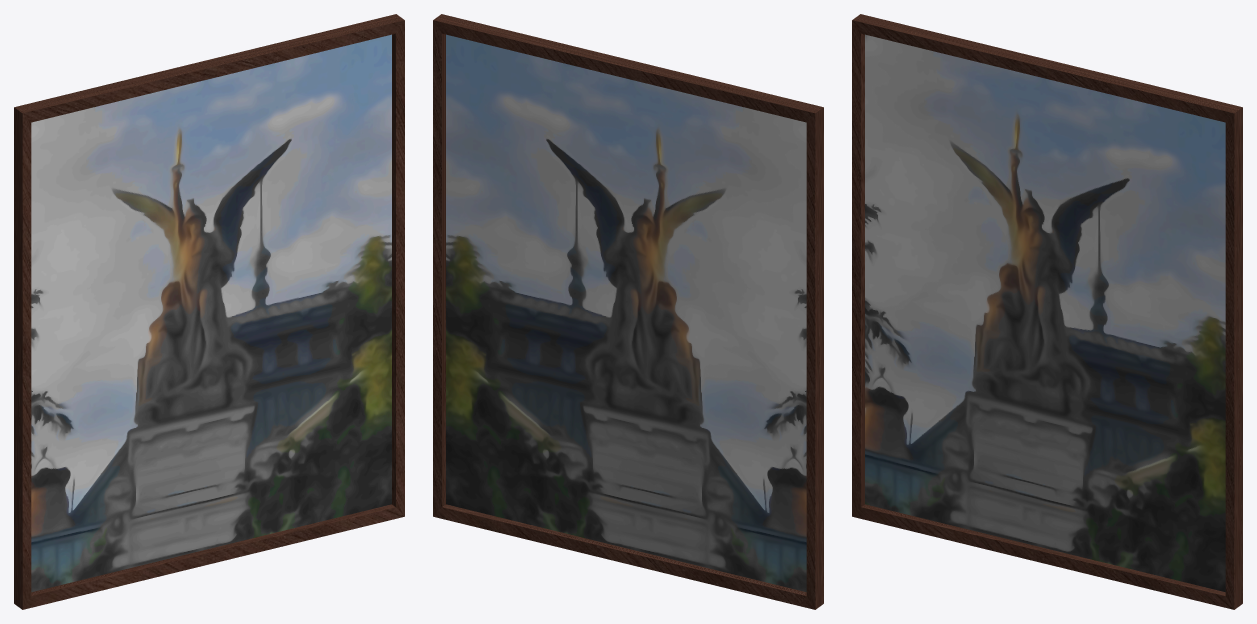
The model's file is Painting_2.fbx.
3 renders of one model, left to right at view 1: azimuth 30°, elevation 25°; view 2: azimuth 150°, elevation 25°; view 3: azimuth 330°, elevation 25°, orthographic.
Parts seen in each view (by area): view 1: Painting_2; view 2: Painting_2; view 3: Painting_2.
Part boxes in pixels (left/top/right/bottom): Painting_2: left=14, top=14, right=404, bottom=609; Painting_2: left=433, top=14, right=823, bottom=609; Painting_2: left=852, top=14, right=1242, bottom=609.
Bounding box in the file's own units: 120 × 149 × 4.61.
